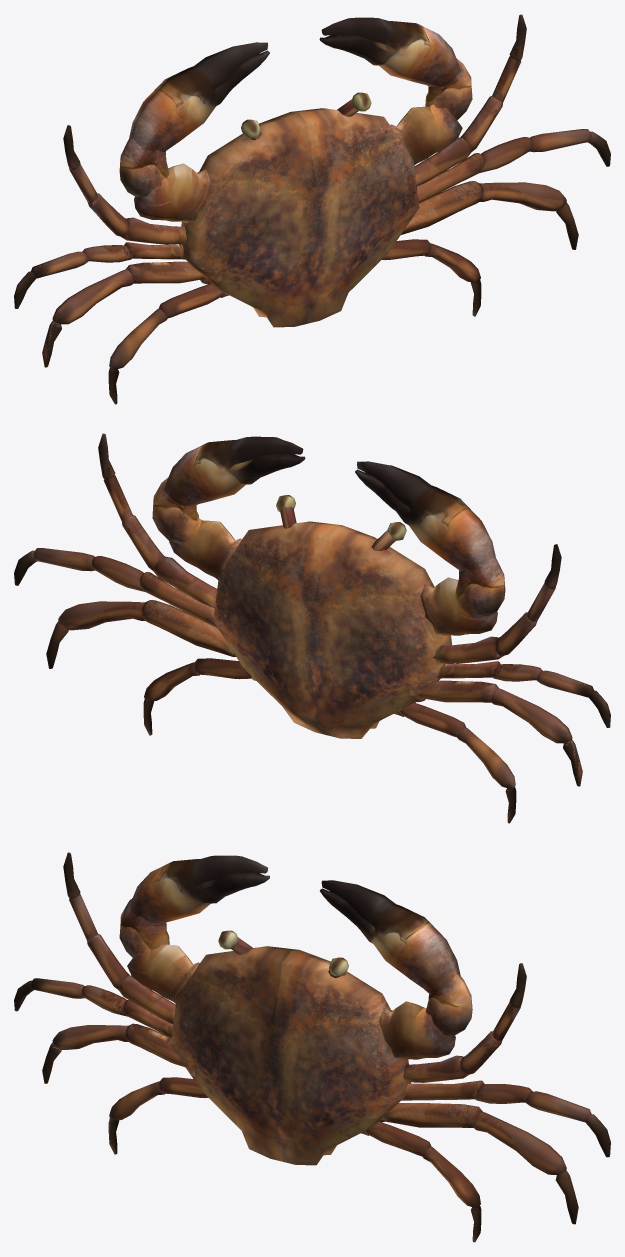
The model's file is dungeness-crab.glb.
3 views of the same model, one above another, from view 1: azimuth 30°, elevation 25°; view 2: azimuth 150°, elevation 25°; view 3: azimuth 330°, elevation 25° (orthographic).
Visible parts, largest first — view 1: Dungeness_Crab; view 2: Dungeness_Crab; view 3: Dungeness_Crab.
Part boxes in pixels (left/top/right/bottom): Dungeness_Crab: left=14, top=14, right=610, bottom=404; Dungeness_Crab: left=14, top=433, right=610, bottom=823; Dungeness_Crab: left=14, top=852, right=610, bottom=1242.
Bounding box in the file's own units: 2.71 × 1.43 × 0.2908.
1 material, 1 textured.
